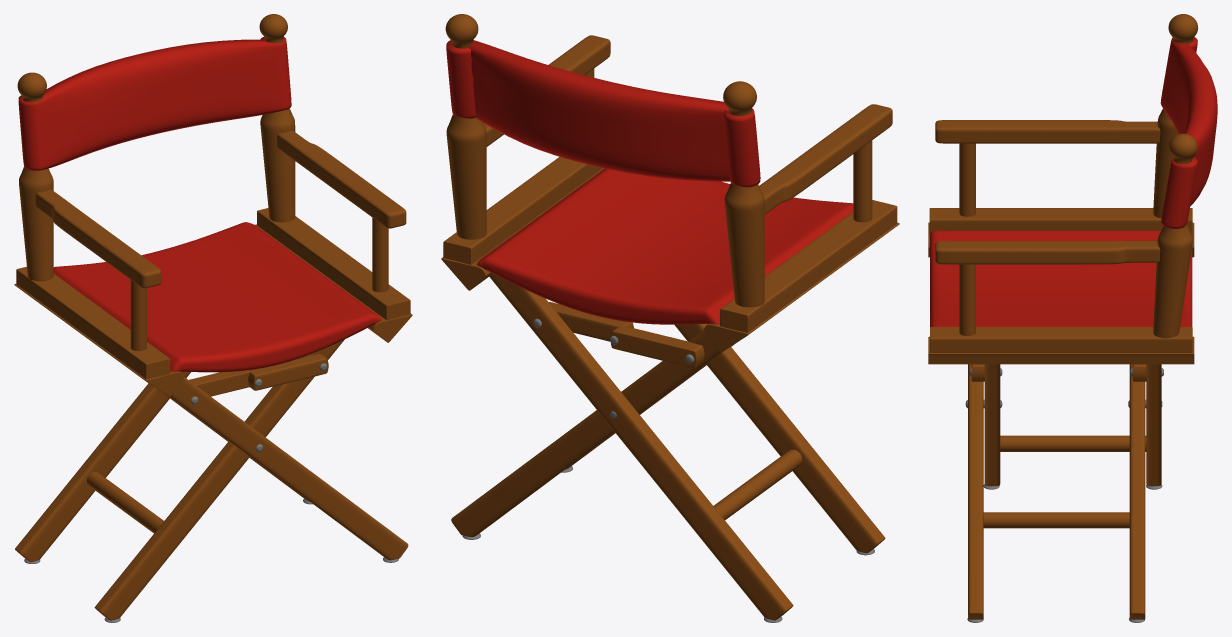
File: chair.glb
3 renders of one model, left to right at view 1: azimuth 30°, elevation 25°; view 2: azimuth 150°, elevation 25°; view 3: azimuth 270°, elevation 25°, orthographic. The views are drawn at different scales.
Parts seen in each view (by area): view 1: 19231_Director's_chai_v1_NEW; view 2: 19231_Director's_chai_v1_NEW; view 3: 19231_Director's_chai_v1_NEW.
Boxes of the visible parts, bbox=[...] form: 19231_Director's_chai_v1_NEW: bbox=[14, 14, 412, 622]; 19231_Director's_chai_v1_NEW: bbox=[441, 14, 899, 622]; 19231_Director's_chai_v1_NEW: bbox=[928, 14, 1217, 622].
Size of the model in its own units: 4.71 by 7.09 by 3.9.
